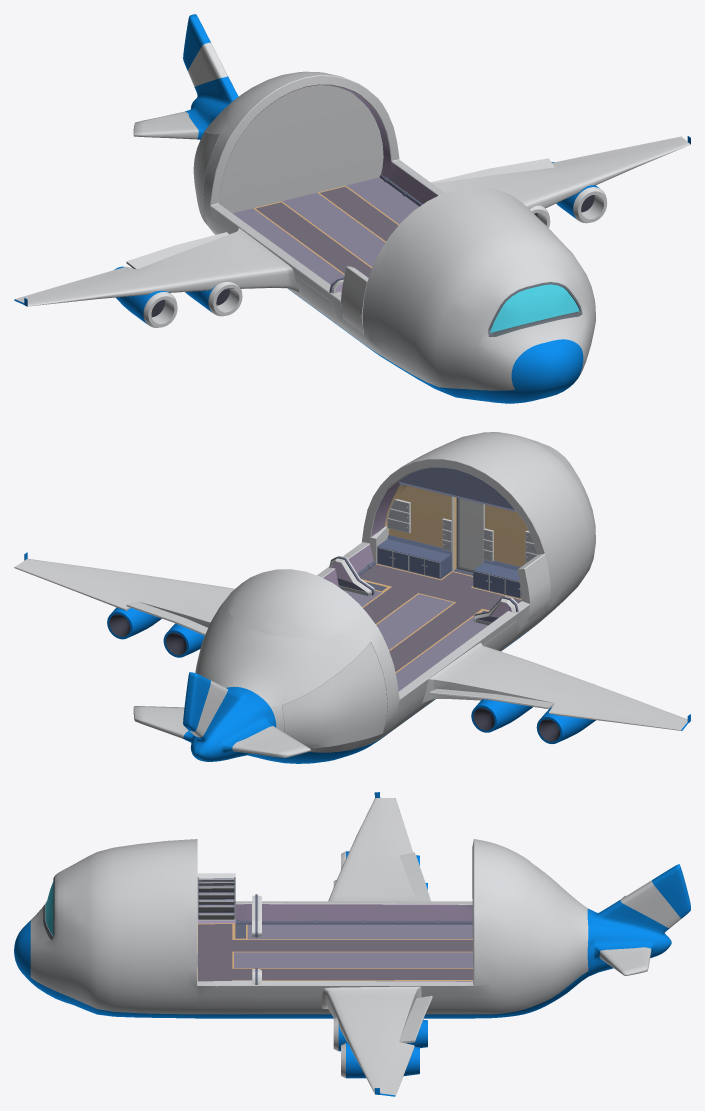
File: Airplane_2.FBX
3 views of the same model, one above another, from view 1: azimuth 30°, elevation 25°; view 2: azimuth 150°, elevation 25°; view 3: azimuth 270°, elevation 25° (orthographic). The views are drawn at different scales.
Parts seen in each view (by area): view 1: Airplane_2, Airplane_Wing_R, Airplane_Wing_L, Airplane_2_BackUp, Airplane_2_Door, Airplane_2_BagsDoor, Airplane_2_FrontBagsDoor; view 2: Airplane_2, Airplane_Wing_R, Airplane_Wing_L, Airplane_2_BackUp, Airplane_2_BagsDoor, Airplane_2_Door; view 3: Airplane_2, Airplane_Wing_L, Airplane_Wing_R, Airplane_2_BackUp, Airplane_2_Door.
Part boxes in pixels (bbox=[...]): Airplane_2: bbox=[133, 14, 595, 403]; Airplane_Wing_R: bbox=[14, 228, 299, 327]; Airplane_Wing_L: bbox=[431, 136, 690, 227]; Airplane_2_BackUp: bbox=[227, 71, 374, 129]; Airplane_2_Door: bbox=[341, 266, 368, 333]; Airplane_2_BagsDoor: bbox=[193, 130, 219, 224]; Airplane_2_FrontBagsDoor: bbox=[297, 277, 344, 330]; Airplane_2: bbox=[133, 432, 595, 763]; Airplane_Wing_R: bbox=[422, 642, 690, 743]; Airplane_Wing_L: bbox=[14, 552, 234, 657]; Airplane_2_BackUp: bbox=[227, 569, 374, 638]; Airplane_2_BagsDoor: bbox=[282, 642, 387, 747]; Airplane_2_Door: bbox=[516, 553, 550, 620]; Airplane_2: bbox=[14, 839, 690, 1018]; Airplane_Wing_L: bbox=[321, 986, 432, 1096]; Airplane_Wing_R: bbox=[328, 792, 430, 901]; Airplane_2_BackUp: bbox=[472, 839, 543, 910]; Airplane_2_Door: bbox=[197, 873, 235, 919].
Size of the model in its own units: 1544 by 357 by 1482.
Materials: 1 (1 with a texture image).
